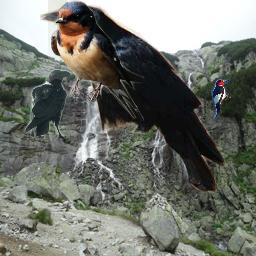Crow: (40, 5, 226, 194), (24, 69, 72, 138)
Swallow: (48, 0, 144, 122)
Woodpecker: (209, 77, 231, 120)
